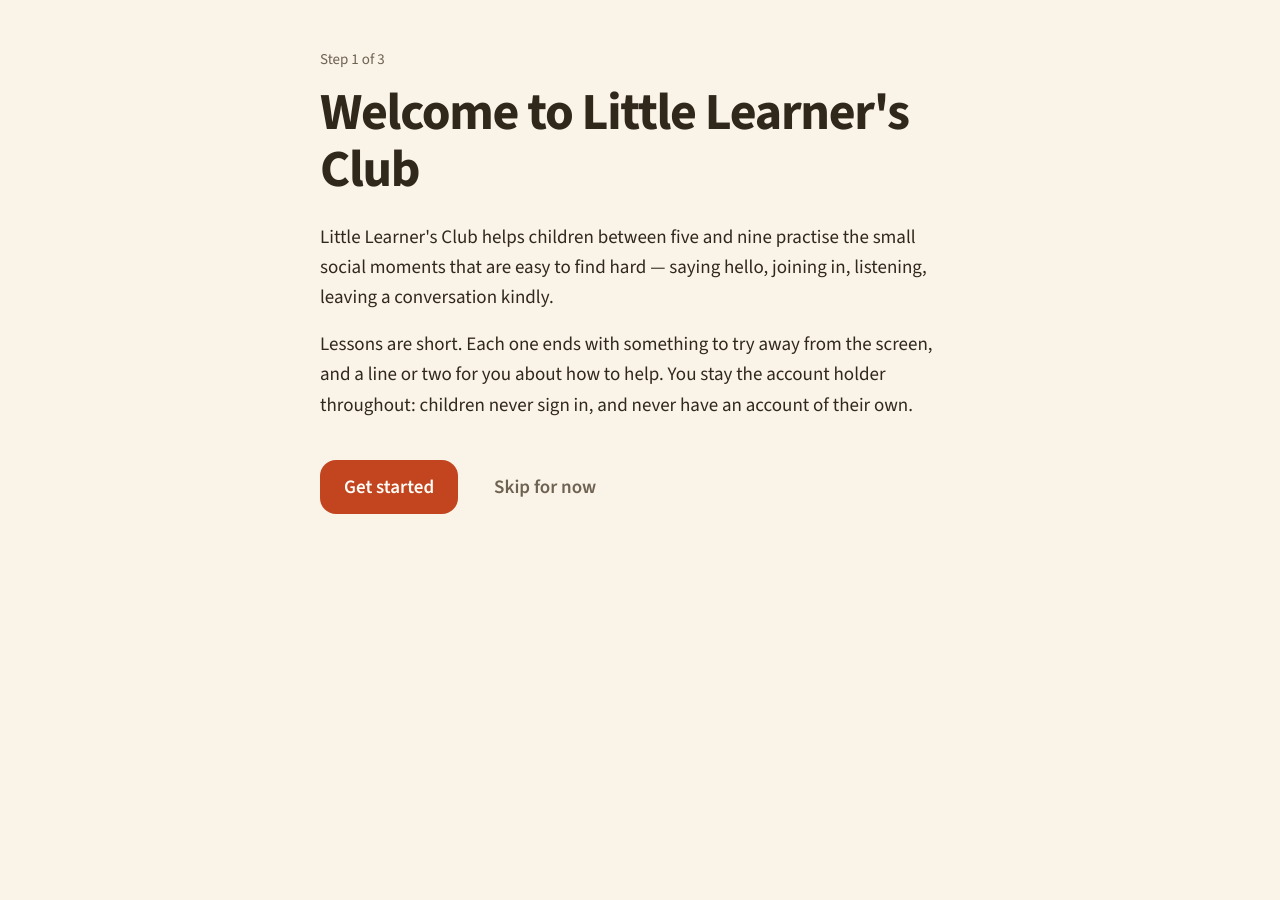
the first profile › creates it and lands on the dashboard
Click the button "Get started" at (389, 487), box [320,460,458,514]
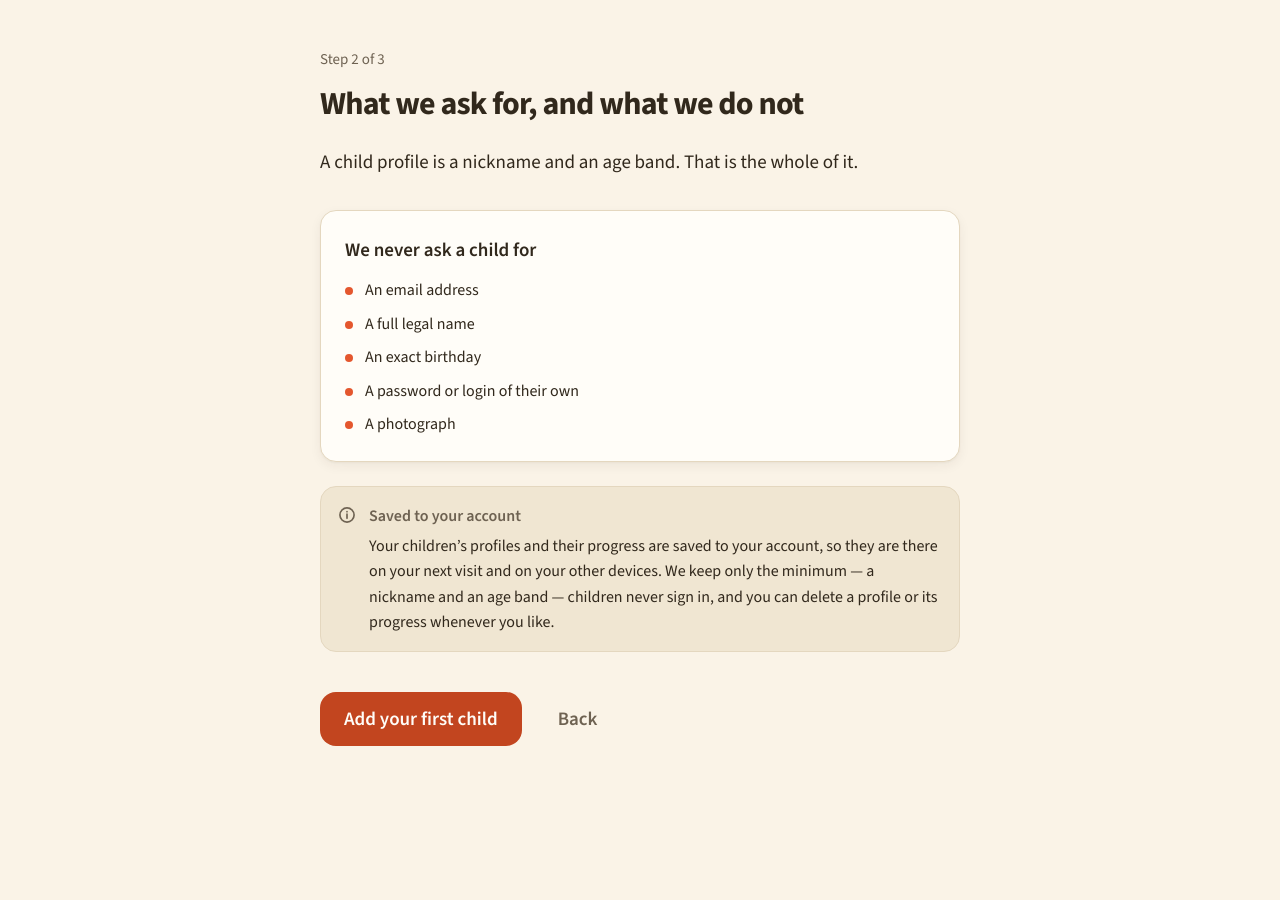
Click the button "Add your first child" at (421, 719), box [320,692,522,746]
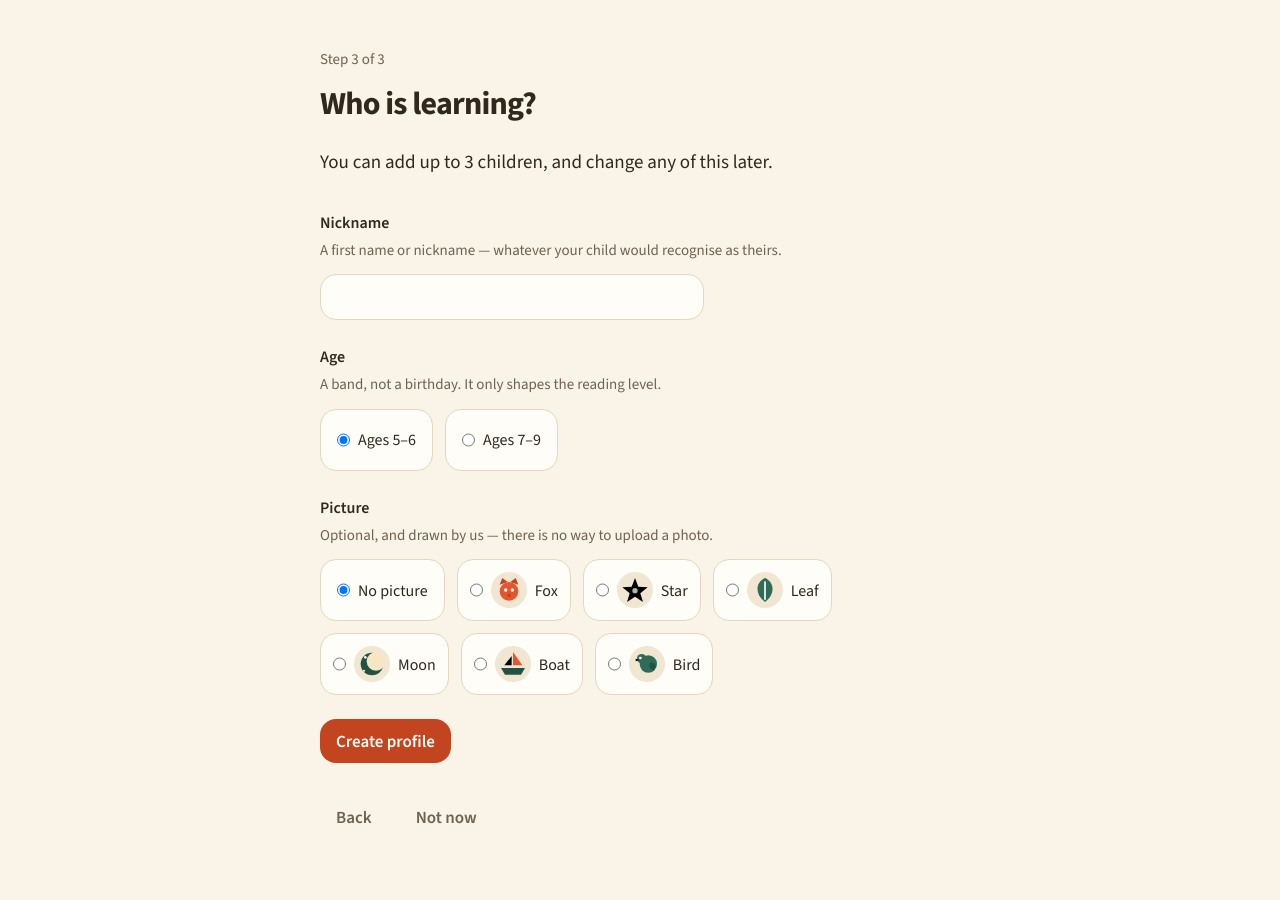
Type "Ada" into the field labelled "Nickname" at (512, 297), box [320,274,704,320]
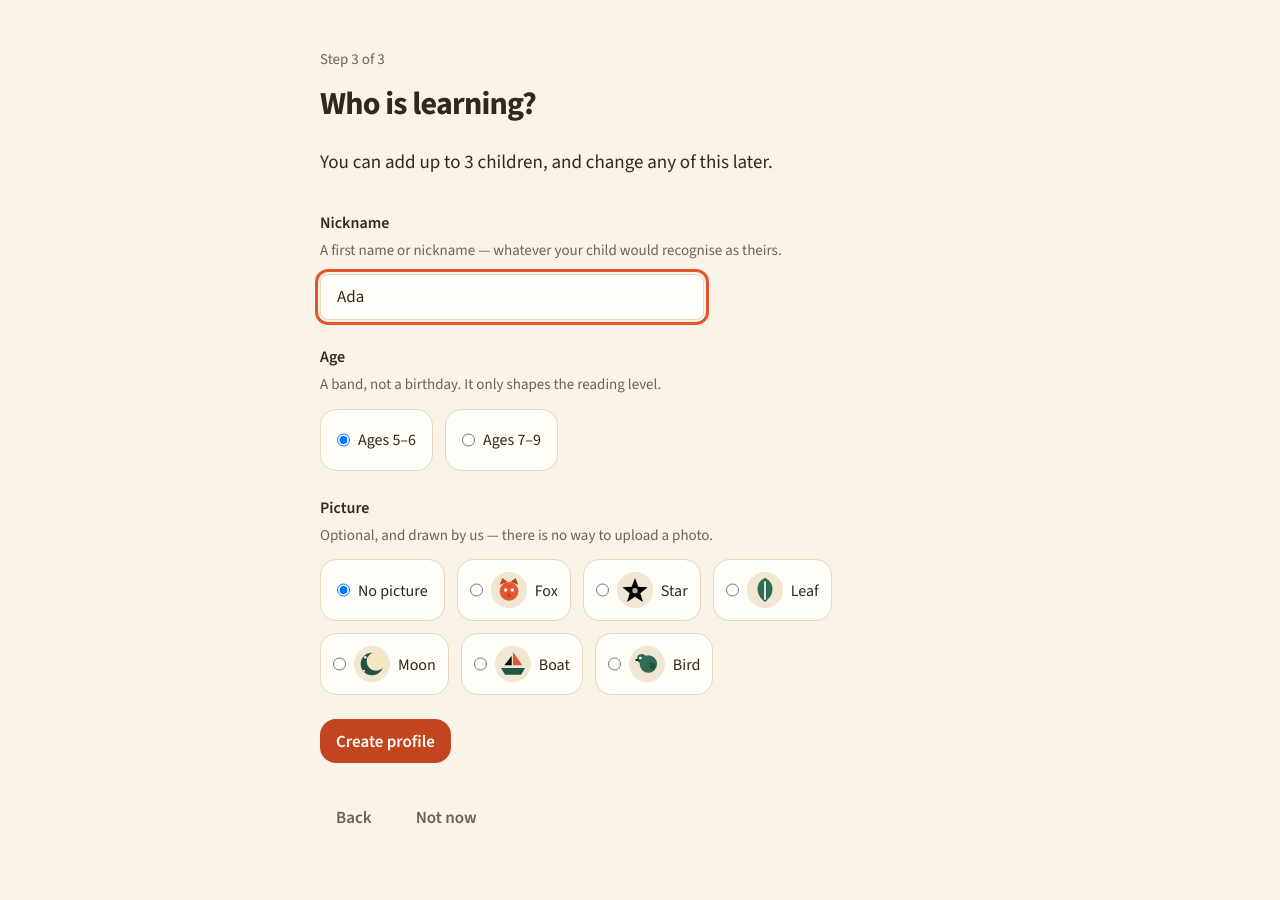
Click the radio button labelled "Ages 7–9" at (468, 440), box [462,418,475,462]
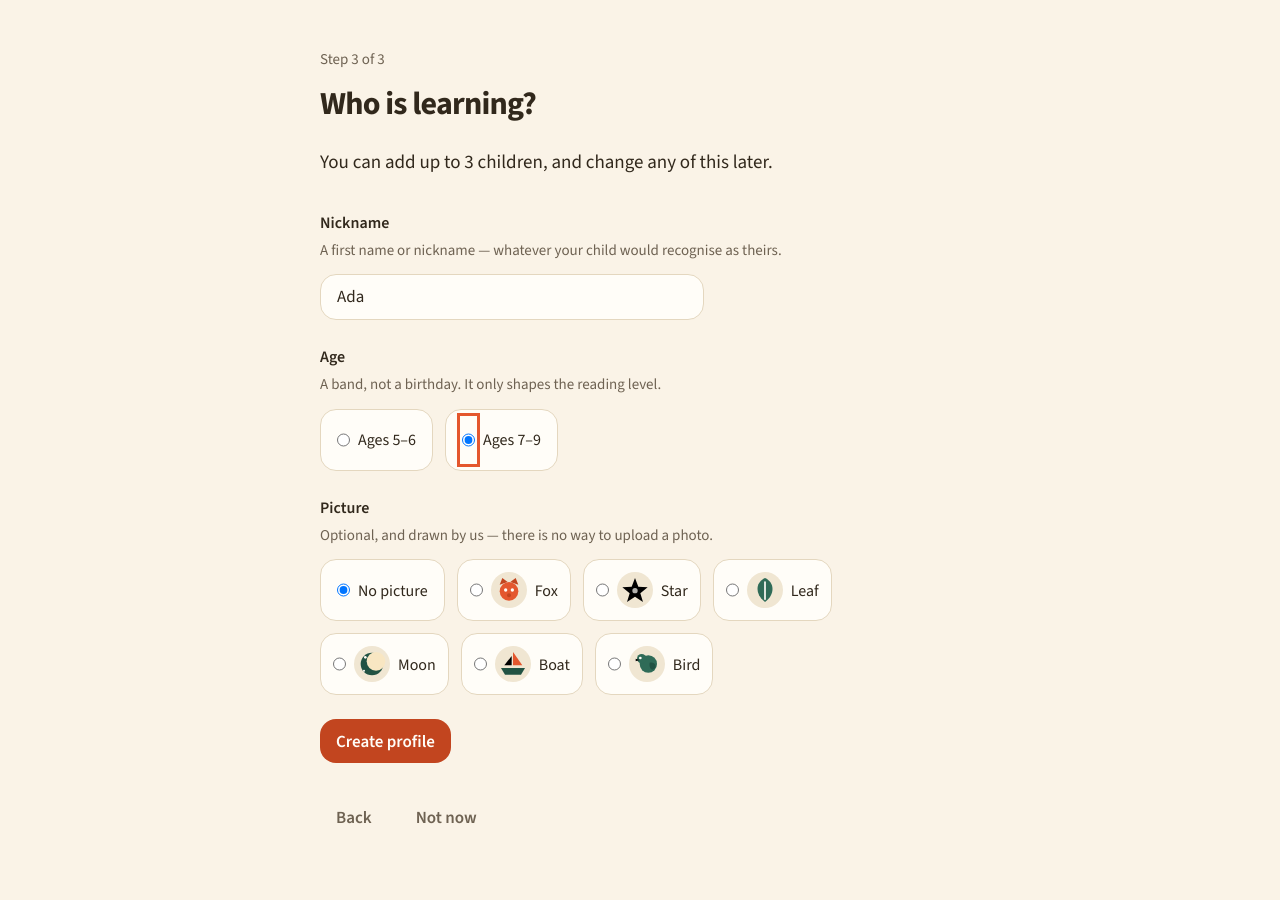
Click the button "Create profile" at (385, 741), box [320,719,451,763]
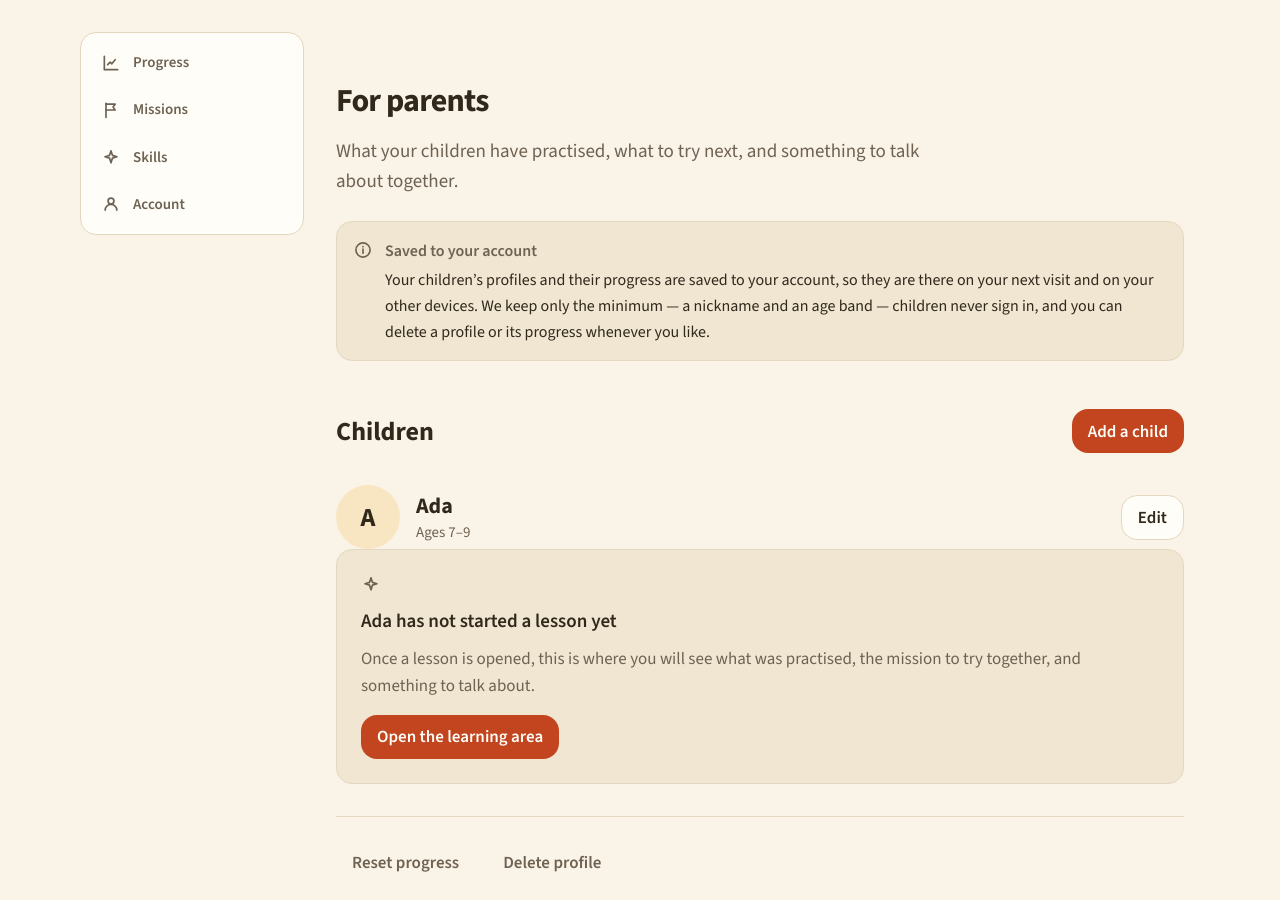
Check: the heading "For parents" is shown, box [336,79,488,121]
Check: the heading "Ada" is shown, box [416,491,453,520]
